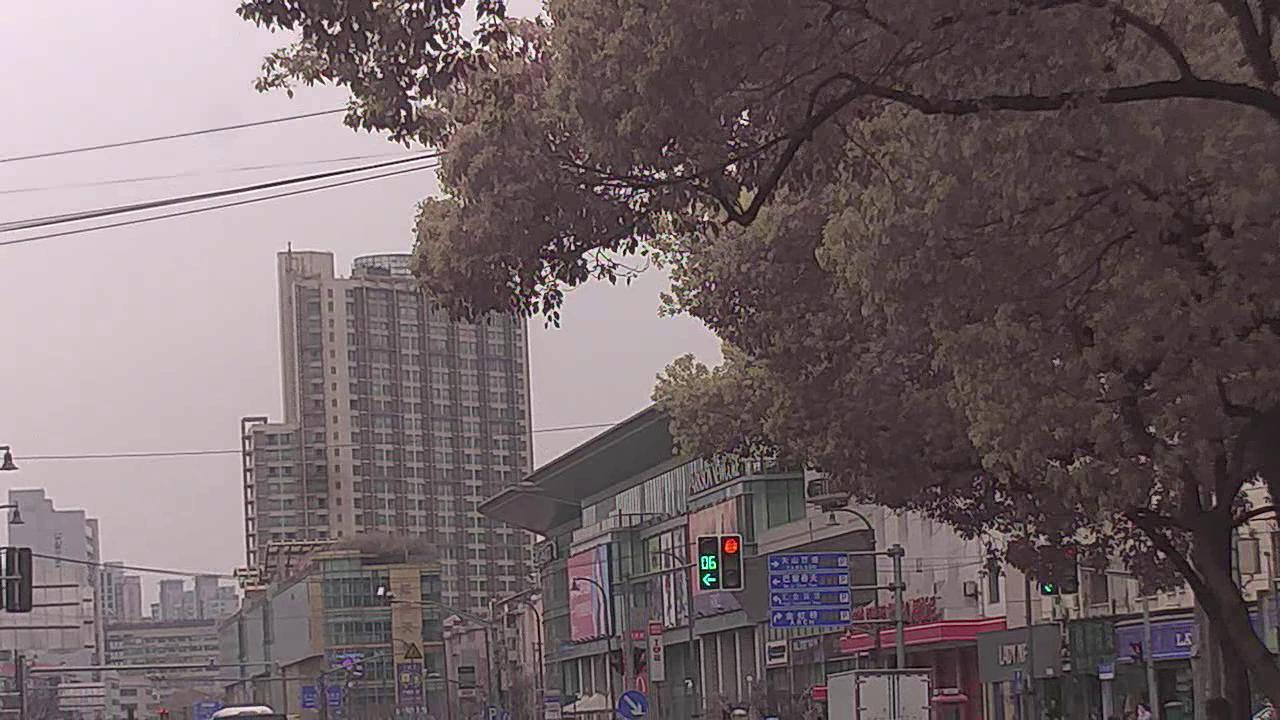traffic_light: (698, 535, 720, 589), (722, 534, 745, 584)
